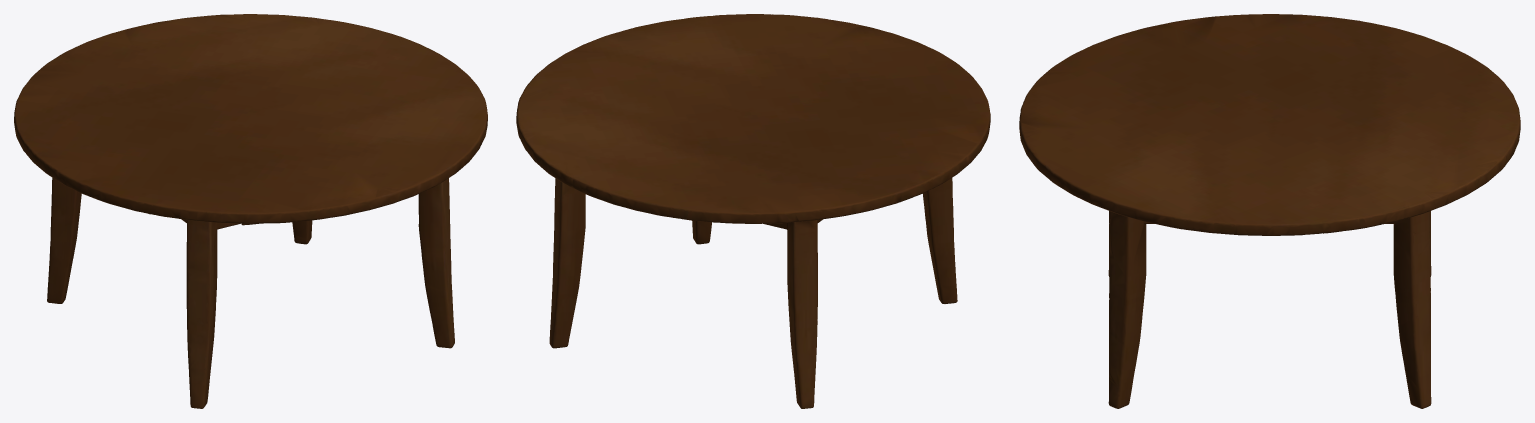
Rendered from ipIa4rQiD-02C0IuFXj1B.glb.
The picture shows the model from 3 angles, left to right: view 1: azimuth 30°, elevation 25°; view 2: azimuth 150°, elevation 25°; view 3: azimuth 270°, elevation 25°; orthographic projection. The views are drawn at different scales.
Parts seen in each view (by area): view 1: geometry_0; view 2: geometry_0; view 3: geometry_0.
Part boxes in pixels (x1,y1,x2,y2): geometry_0: [14, 14, 487, 408]; geometry_0: [516, 14, 990, 408]; geometry_0: [1019, 14, 1520, 408].
Bounding box in the file's own units: 1 × 0.4915 × 1.
1 material, 1 textured.
